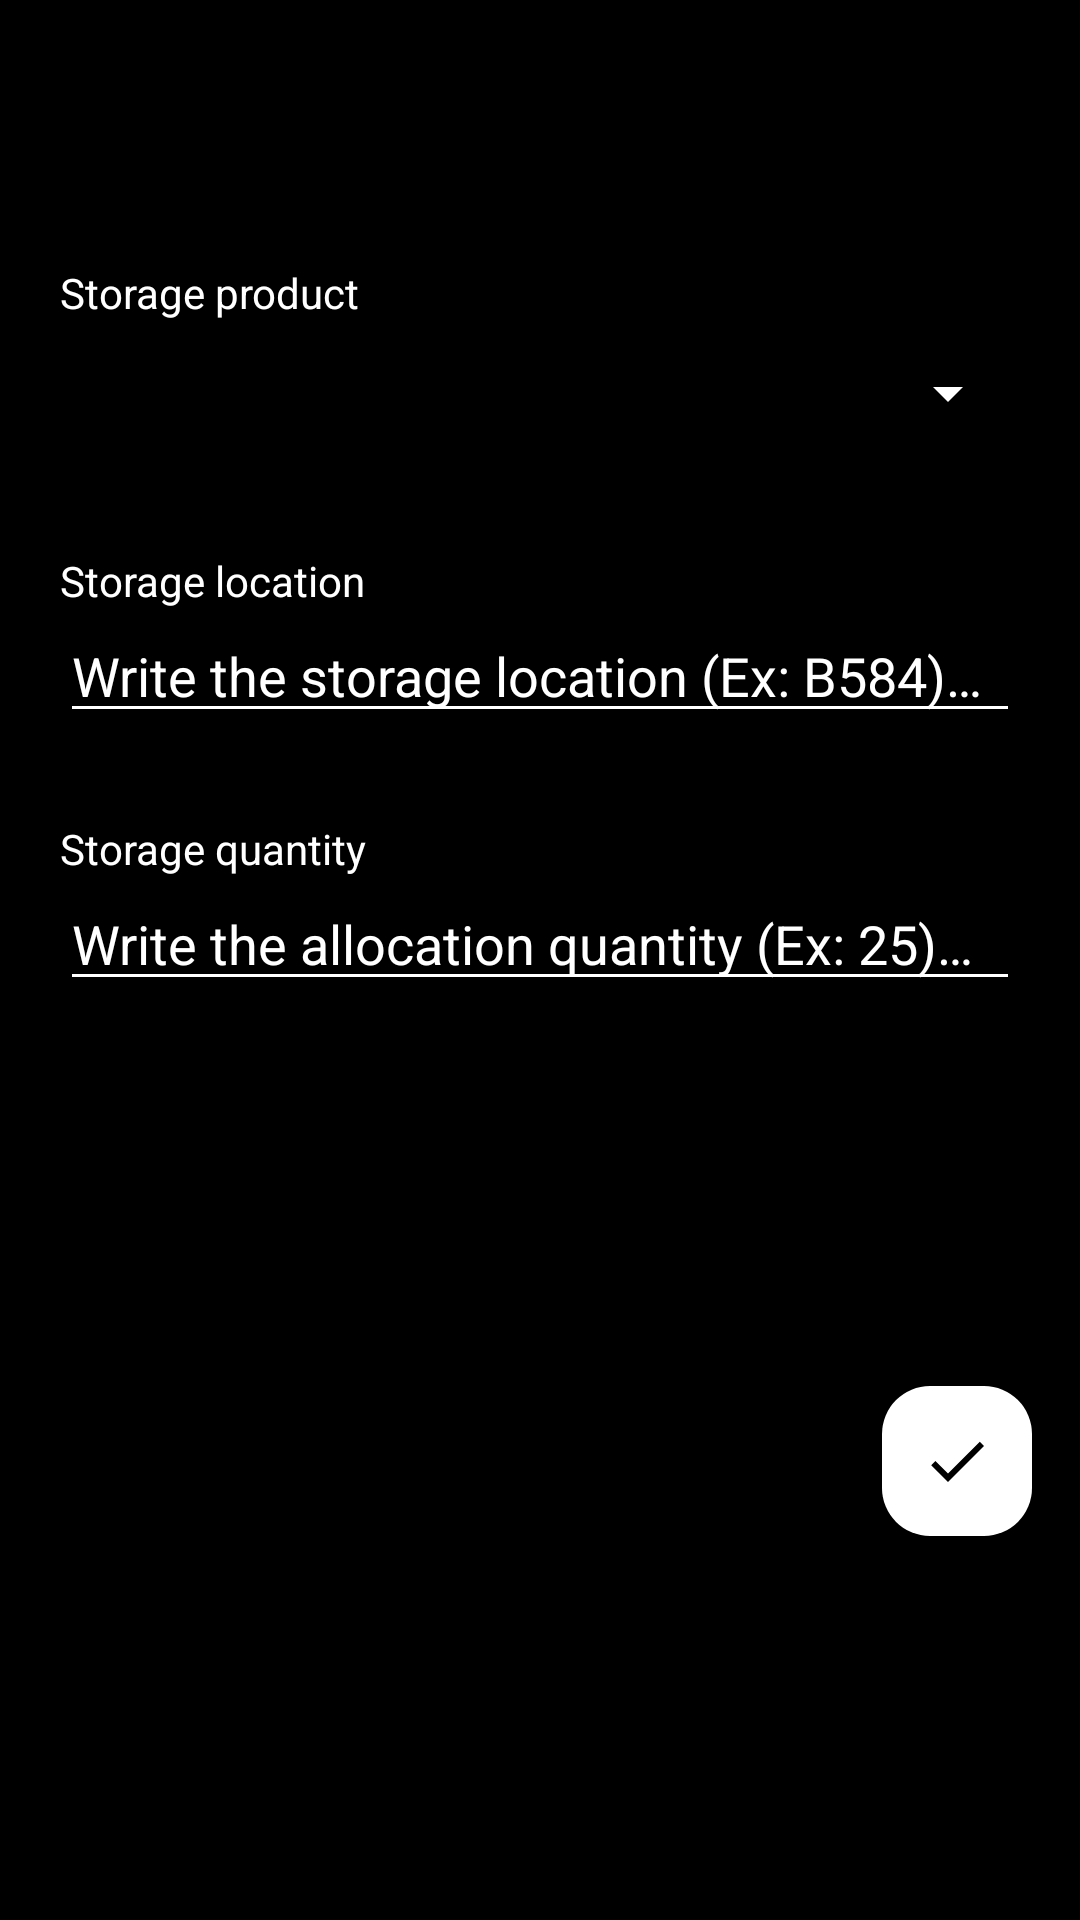

Named icons in this screenshot (1080*1920) and their bounding boxes, (x1, y1, x2, y2):
Submit: (882, 1386, 1032, 1536)
